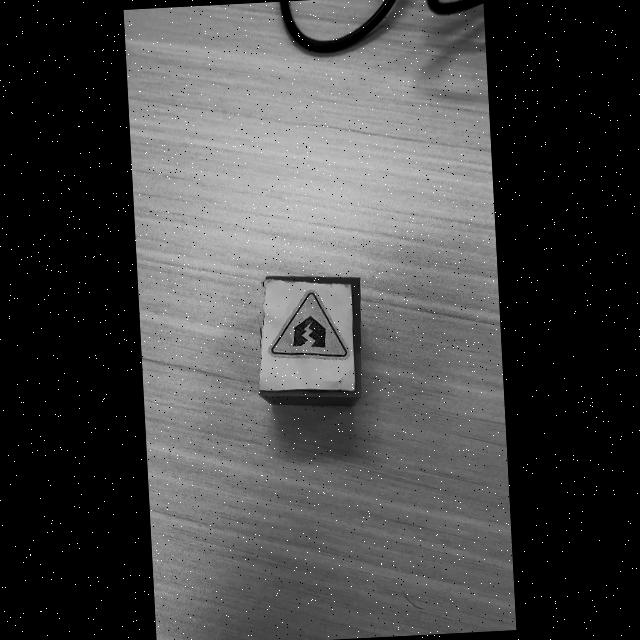Earthquake: (270, 292, 348, 359)
